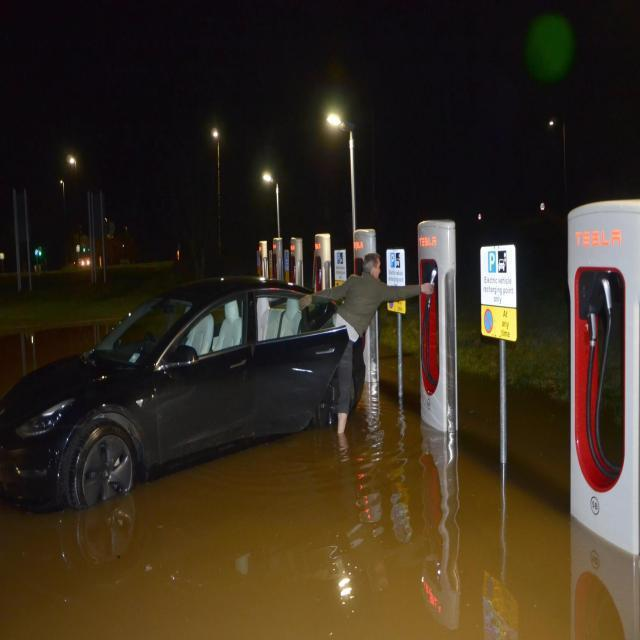water: (1, 362, 637, 638)
